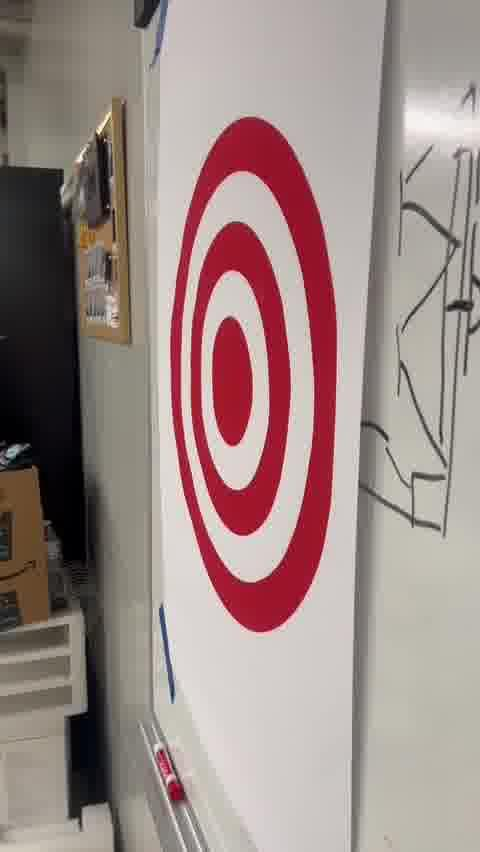target_red: (168, 119, 336, 633)
